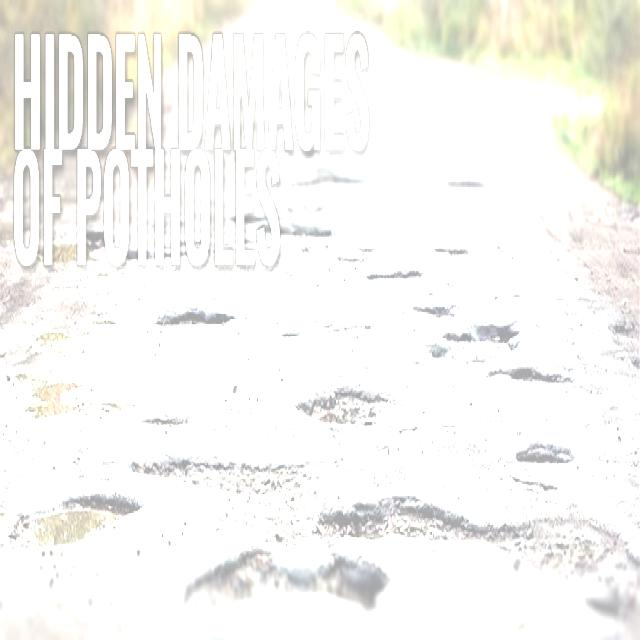Pothole: (25, 355, 546, 640)
